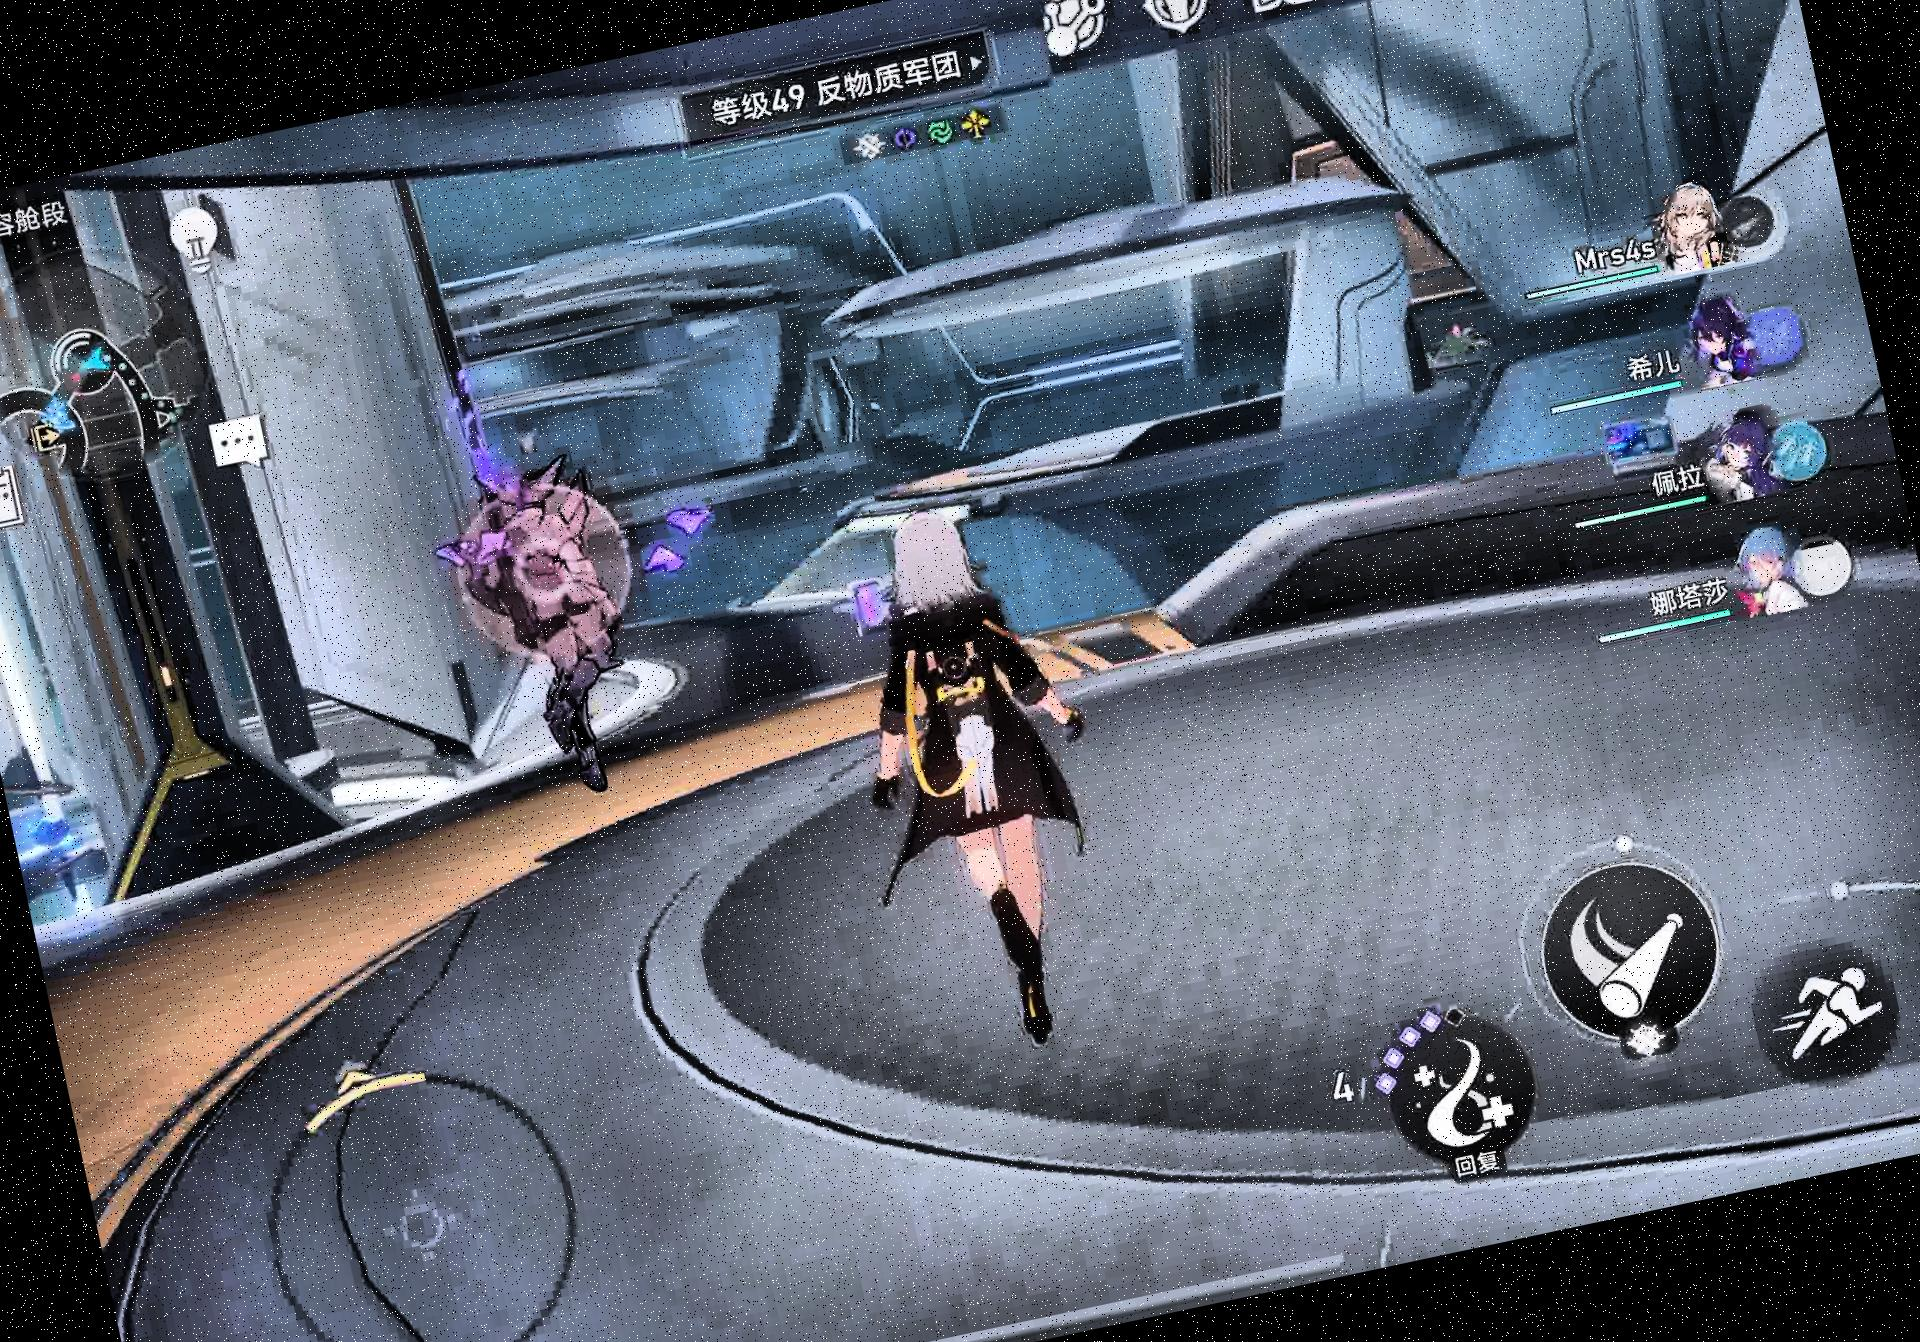Enemy: (411, 445, 671, 808)
Self: (808, 484, 1153, 1084)
